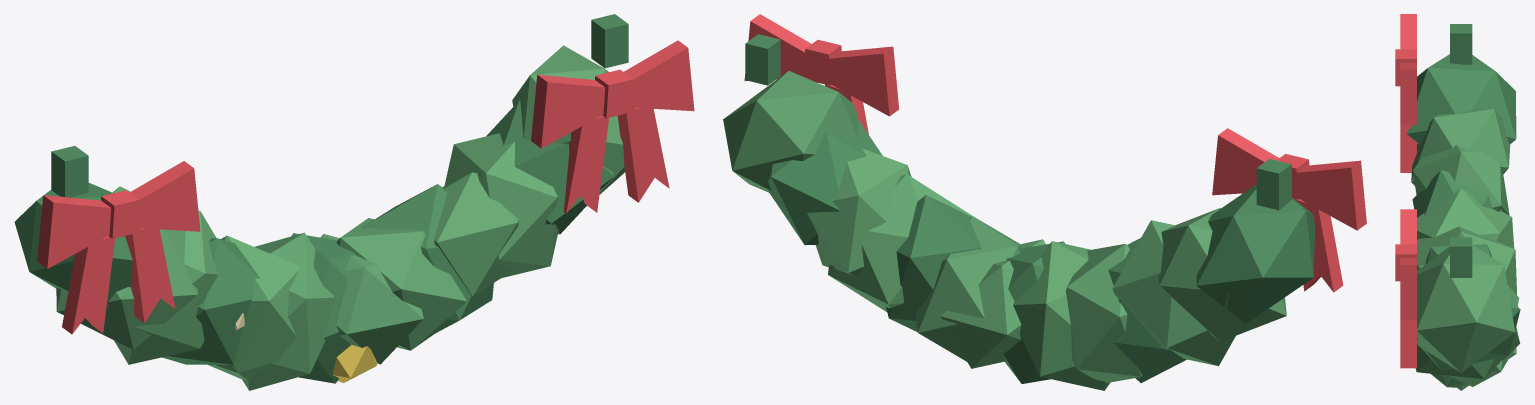
The model's file is Garland.glb.
The picture shows the model from 3 angles, left to right: view 1: azimuth 30°, elevation 25°; view 2: azimuth 150°, elevation 25°; view 3: azimuth 270°, elevation 25°; orthographic projection. The views are drawn at different scales.
Visible parts, largest first — view 1: Pine, Red, PineDark, Gold; view 2: Pine, PineDark, Red; view 3: Pine, PineDark, Red.
Boxes of the visible parts, bbox=[...] form: Pine: bbox=[56, 45, 624, 390]; Red: bbox=[37, 40, 694, 334]; PineDark: bbox=[14, 14, 628, 383]; Gold: bbox=[332, 345, 376, 382]; Pine: bbox=[723, 71, 1286, 390]; PineDark: bbox=[745, 34, 1315, 383]; Red: bbox=[744, 14, 1366, 292]; Pine: bbox=[1411, 105, 1520, 390]; PineDark: bbox=[1406, 24, 1520, 387]; Red: bbox=[1395, 14, 1416, 368].
Bounding box in the file's own units: 1.25 × 0.5286 × 0.2586.
